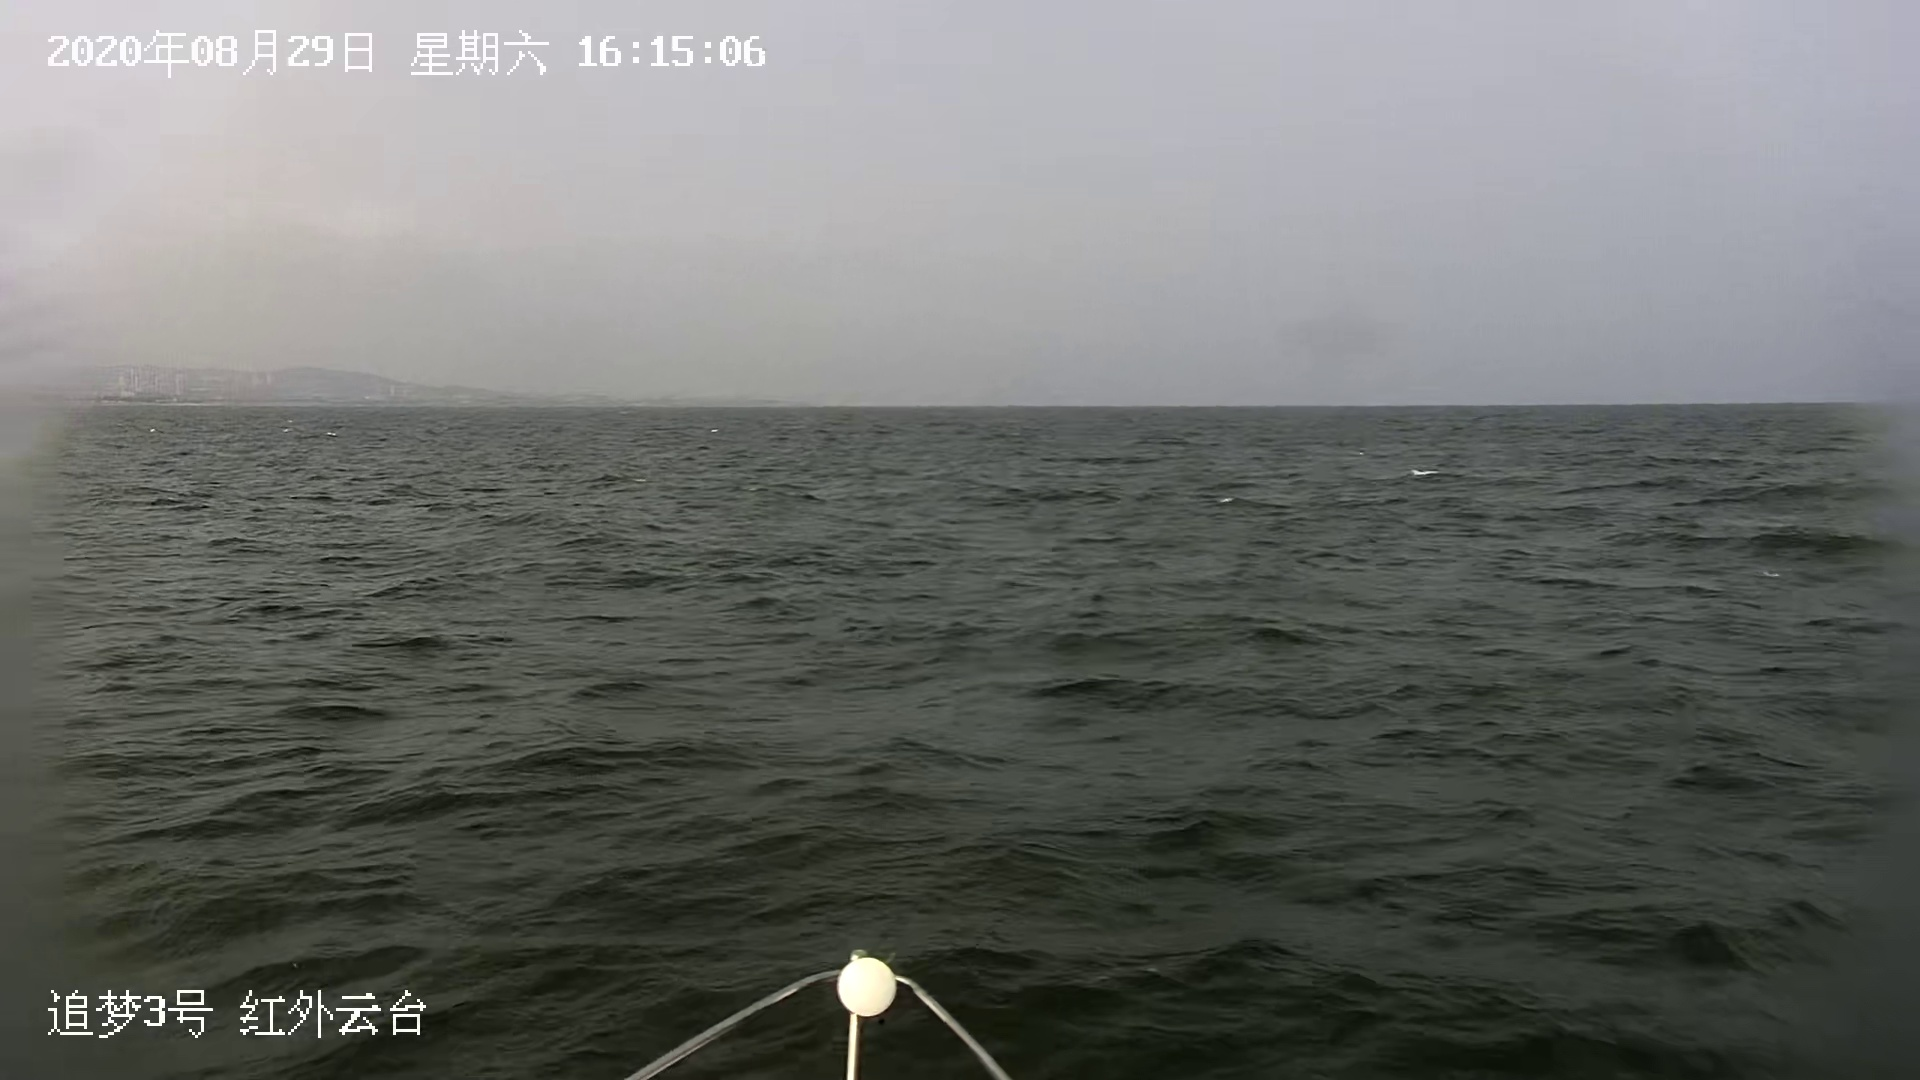coast: (1, 368, 782, 407)
this: (615, 952, 1009, 1079)
